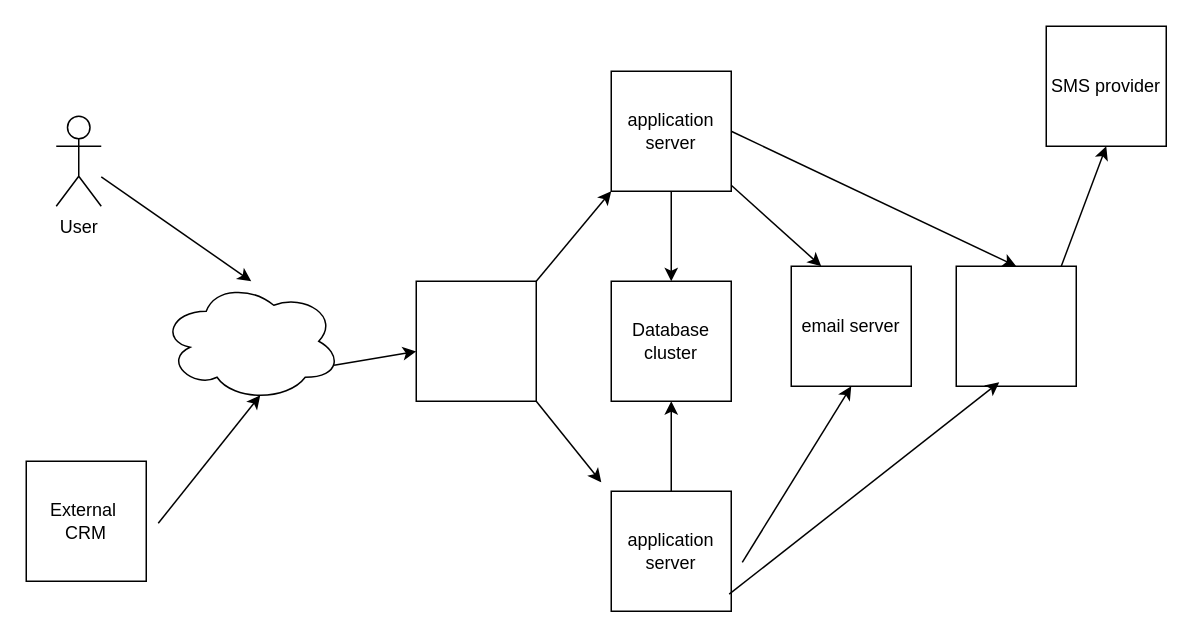
Some shapes in this 1193 by 638 pixel diagram are drawn without their labels. Here are the shapes that lost their labels. From the top down, the box of each, then its label:
(160, 280, 341, 401): Internet
(415, 280, 536, 401): Load balancer
(955, 265, 1076, 386): SMS connector
